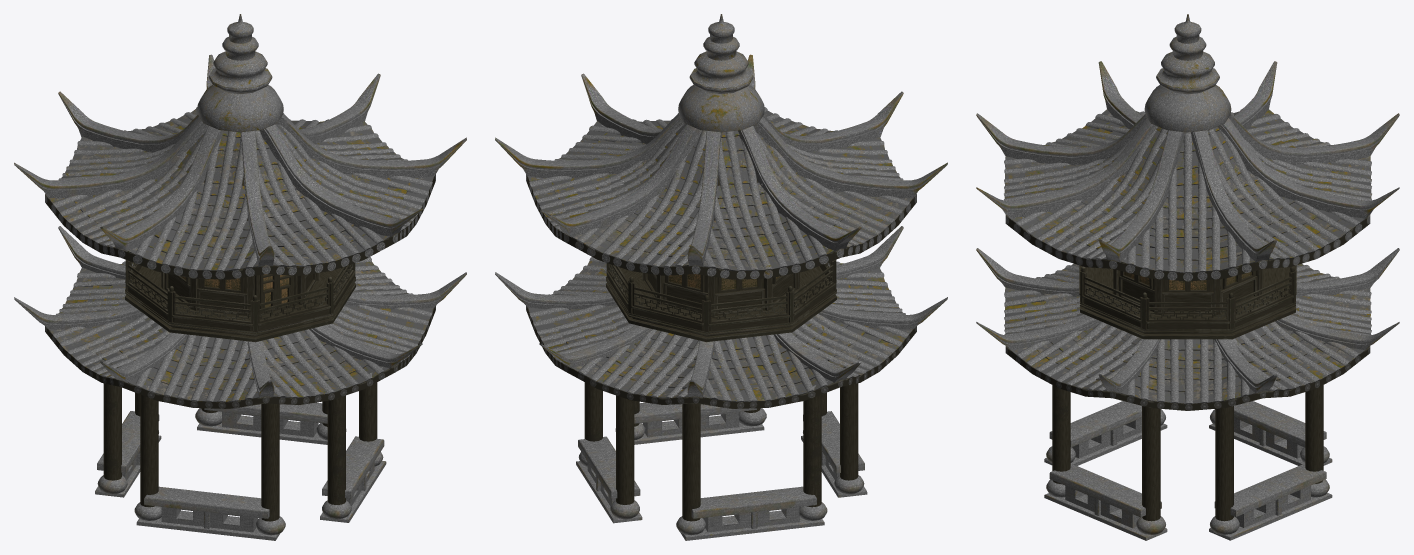
The model's file is Pavillion.fbx.
The picture shows the model from 3 angles, left to right: view 1: azimuth 30°, elevation 25°; view 2: azimuth 150°, elevation 25°; view 3: azimuth 270°, elevation 25°; orthographic projection.
Parts seen in each view (by area): view 1: Bricks; view 2: Bricks; view 3: Bricks.
Part boxes in pixels (x1,y1,x2,y2): Bricks: (14, 14, 466, 540); Bricks: (495, 14, 947, 540); Bricks: (976, 14, 1399, 540).
Bounding box in the file's own units: 805 × 977 × 805.
